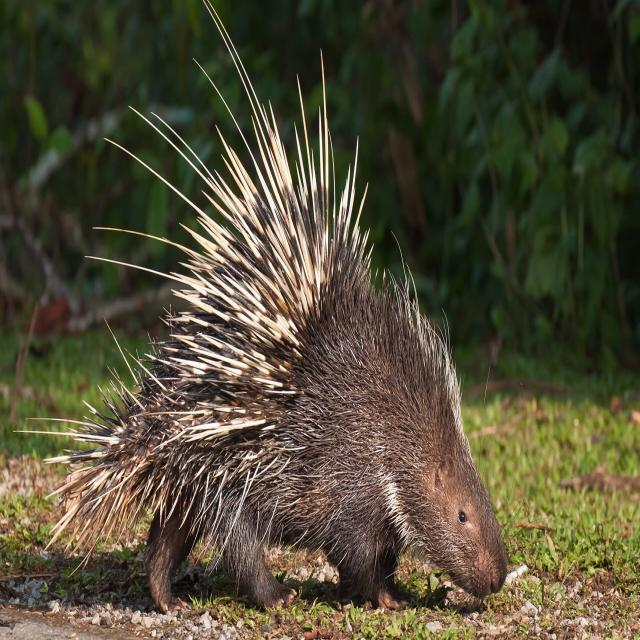Porcupine: (121, 210, 512, 580)
